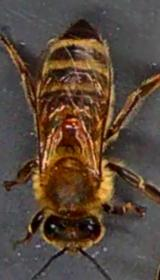varroa_mite: (55, 112, 86, 132)
